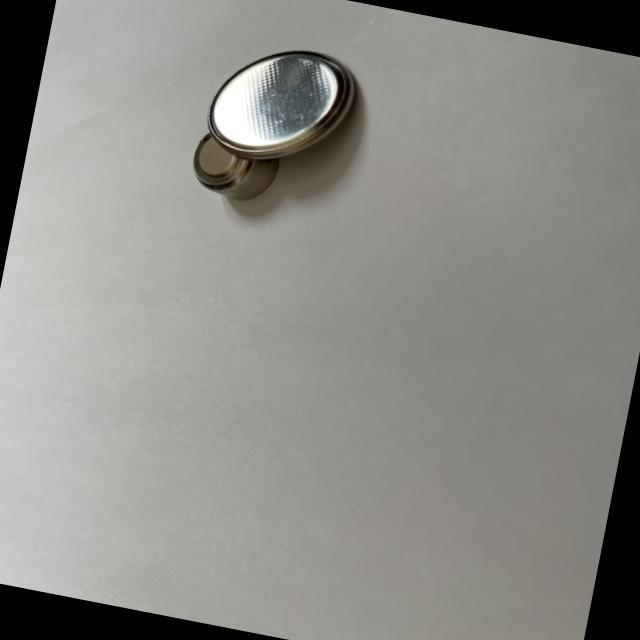COIN: (203, 34, 363, 174), (187, 126, 284, 206)
